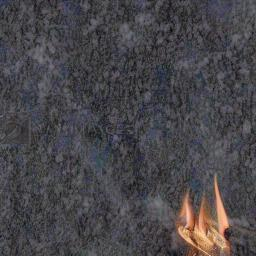Small fire: (180, 202, 233, 256)
